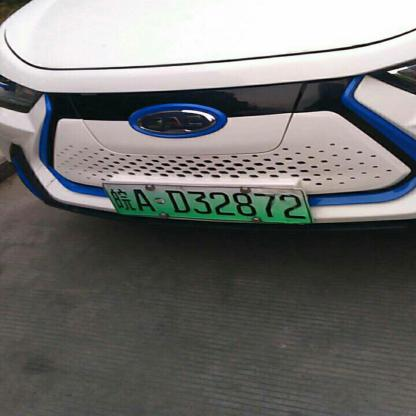lp: (102, 183, 311, 222)
